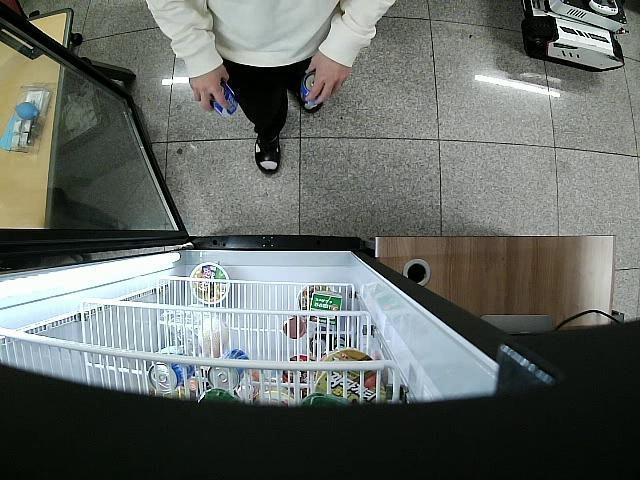13_pocariSweat: (210, 82, 238, 120), (298, 72, 322, 110)
